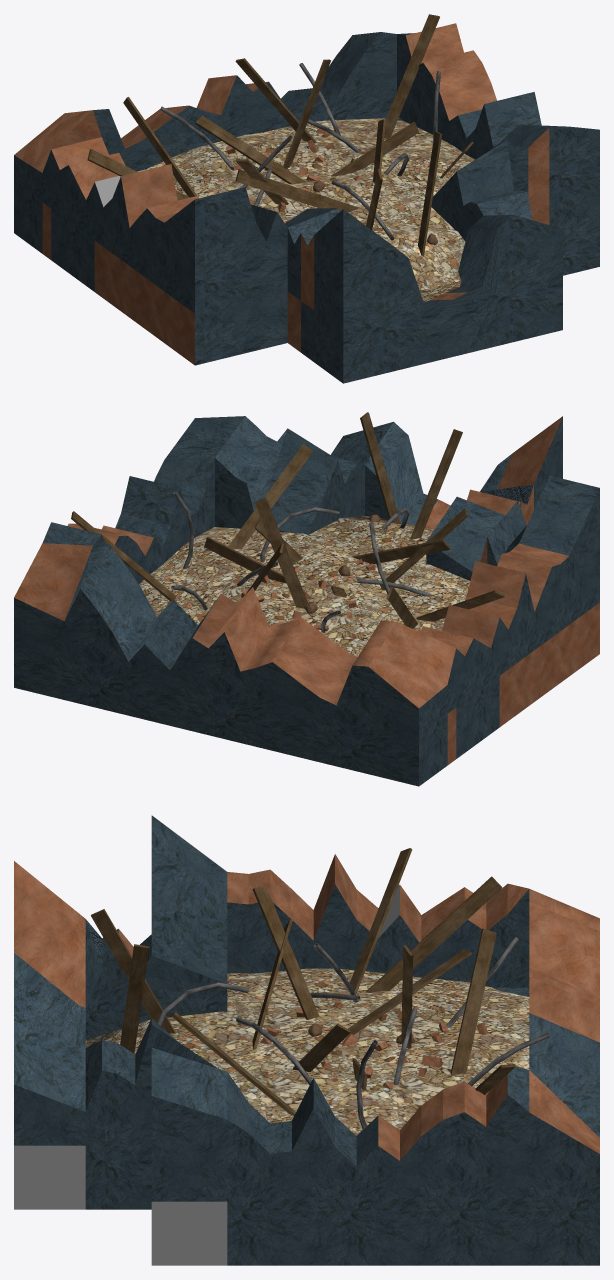
The model's file is CollapsedHouse3V2.FBX.
3 views of the same model, one above another, from view 1: azimuth 30°, elevation 25°; view 2: azimuth 150°, elevation 25°; view 3: azimuth 270°, elevation 25° (orthographic). The views are drawn at different scales.
Visible parts, largest first — view 1: Box059, Plane001, Box058, Box048, Box054, Box047, Box049, Box056, Box052, Box050, Box051; view 2: Box059, Plane001, Box050, Box055, Box060, Box047, Box058, Box048, Box052, Box053, Box051, Box049; view 3: Box059, Plane001, Box049, Box056, Box053, Box047, Box060, Box051, Box054, Box055, Box057, Box050 (+2 smaller).
Part boxes in pixels (x1,y1,x2,y2): Box059: (14,23,599,383); Plane001: (145,118,474,301); Box058: (384,14,439,138); Box048: (235,169,359,212); Box054: (195,115,306,184); Box047: (417,131,442,256); Box049: (123,97,197,197); Box056: (235,58,317,143); Box052: (331,122,418,176); Box050: (283,59,330,169); Box051: (87,149,189,200); Box059: (14,416,599,786); Plane001: (139,516,470,656); Box050: (254,498,307,608); Box055: (228,444,313,549); Box060: (410,429,462,539); Box047: (360,412,400,524); Box058: (71,511,176,601); Box048: (352,539,450,563); Box052: (204,536,286,583); Box053: (380,508,467,590); Box051: (416,590,504,621); Box049: (386,586,417,628); Box059: (14,815,599,1265); Plane001: (85,968,529,1135); Box049: (365,876,502,992); Box056: (450,928,496,1075); Box053: (252,886,319,1019); Box047: (120,944,149,1053); Box060: (91,909,175,1033); Box051: (350,848,412,993); Box054: (346,949,471,1037); Box055: (171,1012,295,1115); Box057: (292,1023,350,1071); Box050: (401,945,413,1048).
Bounding box in the file's own units: 832 × 388 × 830.
7 materials, 6 textured.
